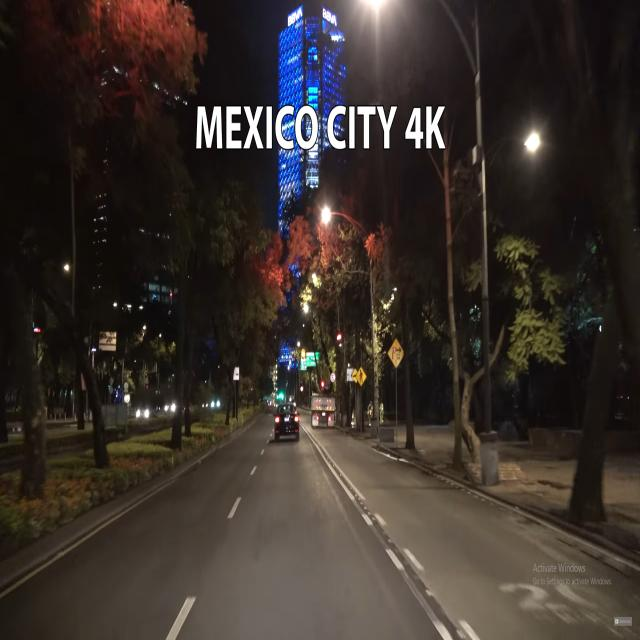headlights: (132, 405, 154, 425), (160, 399, 178, 419)
